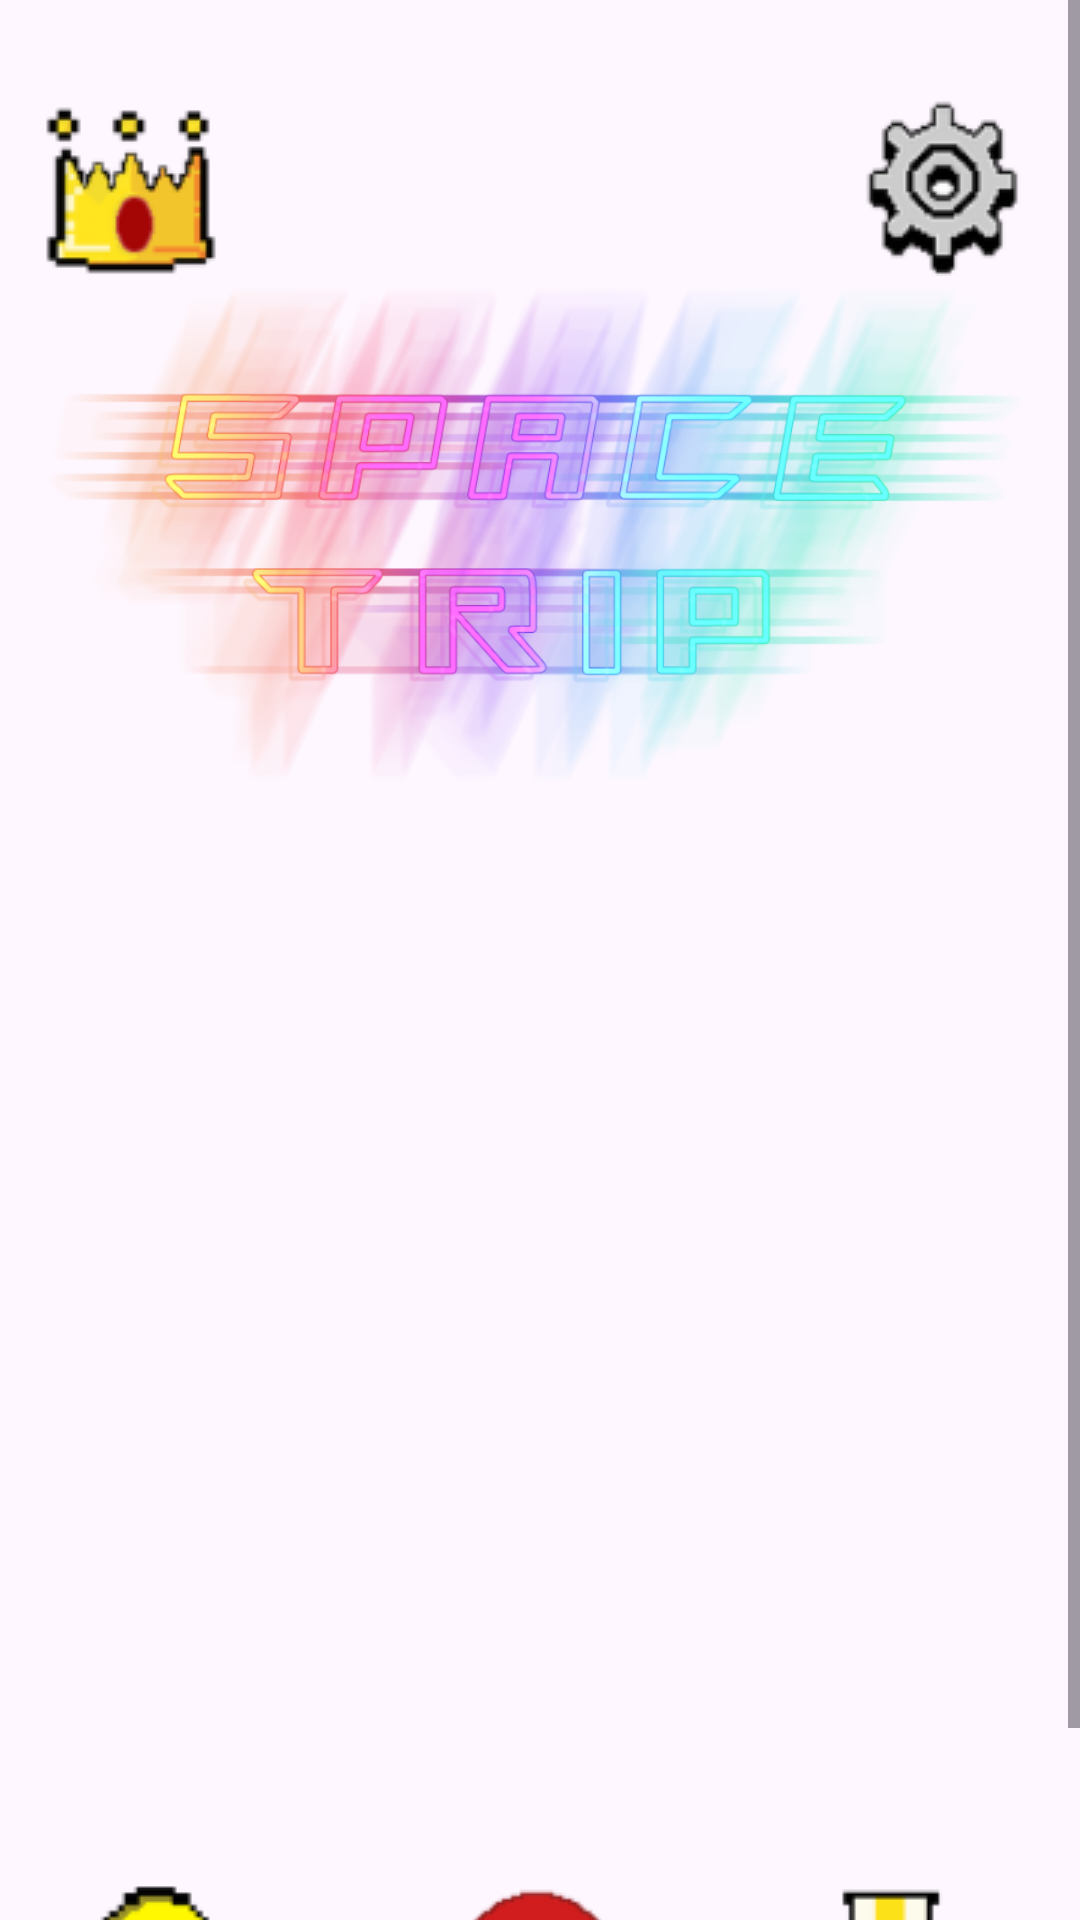

Icon click points for this 1080px x 1920px phone screenshot, format (x,y):
confi: (942,188)
crown: (131,190)
